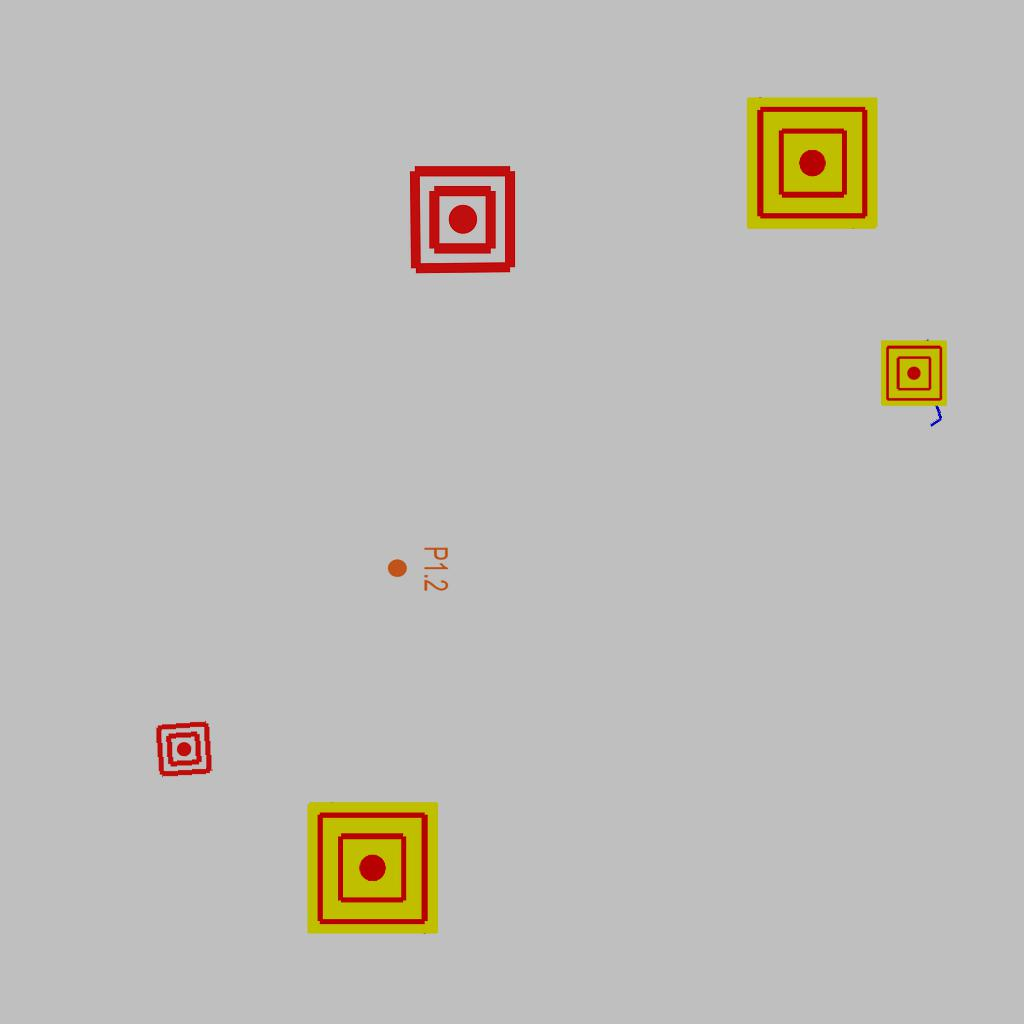Downlight_LED_Einbauleuchten_Flur: (386, 546, 450, 592)
NAM-Nichtautomatischer_Melder: (746, 97, 878, 229), (307, 802, 439, 934), (406, 163, 519, 276), (881, 340, 947, 406), (154, 719, 214, 779)
Wechselschalter: (880, 326, 986, 434)
